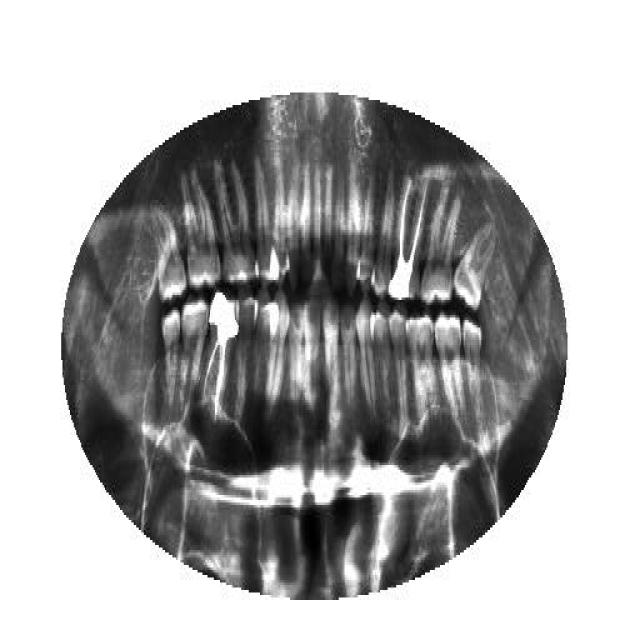Impacted Tooth: (452, 218, 496, 312)
Implant: (199, 290, 240, 425), (388, 172, 430, 300)
